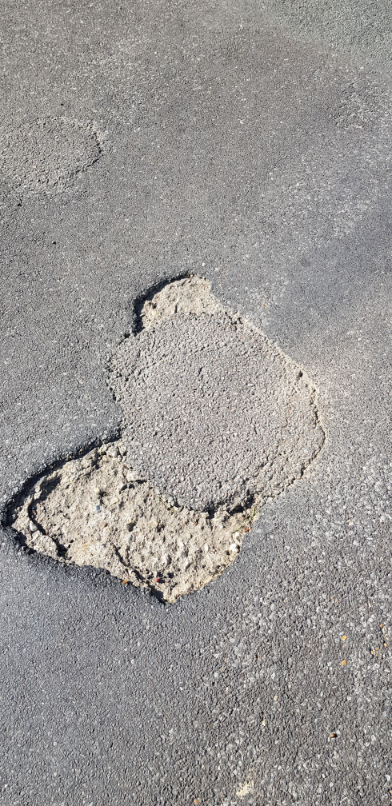pothole: (0, 427, 265, 608), (128, 267, 225, 331)
